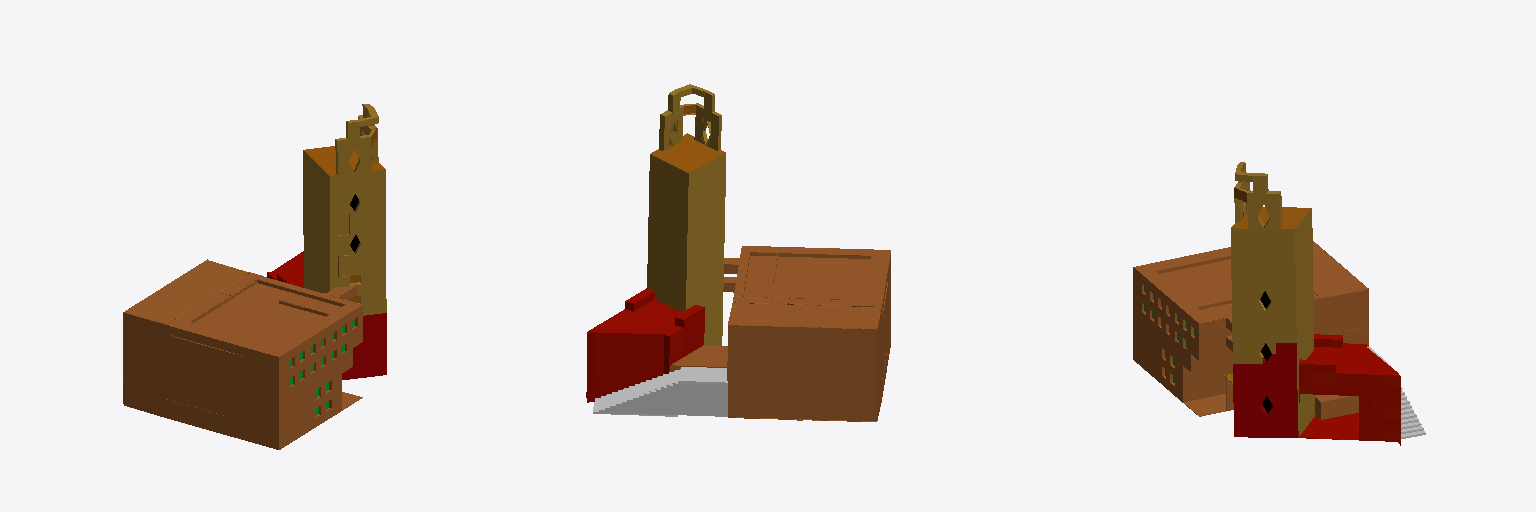
The model's file is builldingsfinal.obj.
3 views of the same model, side by side, from view 1: azimuth 30°, elevation 25°; view 2: azimuth 150°, elevation 25°; view 3: azimuth 270°, elevation 25° (orthographic).
Visible parts, largest first — view 1: Cube_Cube.003, Cube.001, Cube.002; view 2: Cube_Cube.003, Cube.001, Cube.002, Stairs.001; view 3: Cube.001, Cube_Cube.003, Cube.002, Stairs.001.
Boxes of the visible parts, x1=… form: Cube_Cube.003: x1=123, y1=259, x2=362, y2=449; Cube.001: x1=303, y1=104, x2=386, y2=379; Cube.002: x1=267, y1=251, x2=303, y2=287; Cube_Cube.003: x1=670, y1=246, x2=890, y2=421; Cube.001: x1=647, y1=84, x2=725, y2=345; Cube.002: x1=586, y1=288, x2=704, y2=402; Stairs.001: x1=593, y1=367, x2=727, y2=416; Cube.001: x1=1231, y1=162, x2=1315, y2=437; Cube_Cube.003: x1=1133, y1=241, x2=1368, y2=419; Cube.002: x1=1298, y1=334, x2=1400, y2=445; Stairs.001: x1=1367, y1=347, x2=1425, y2=438.
Size of the model in its own units: 1128 by 1173 by 1184.